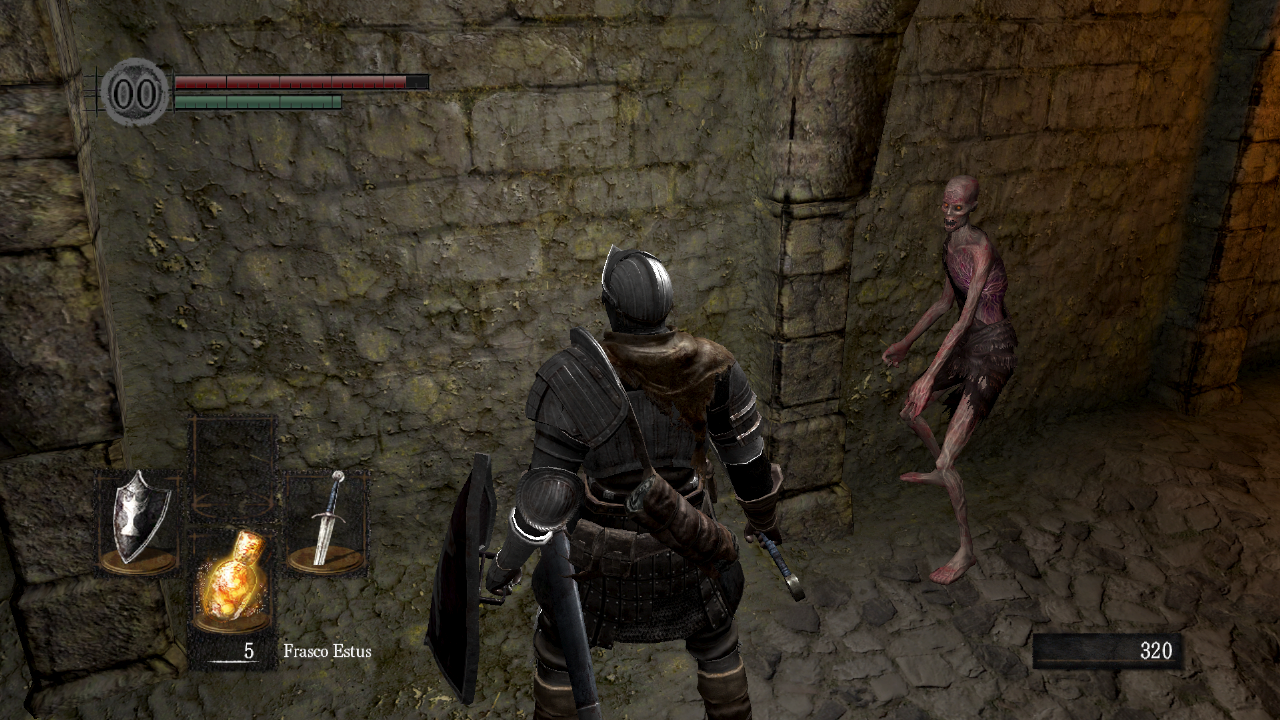hollow: (881, 174, 1021, 586)
player: (423, 244, 807, 720)
